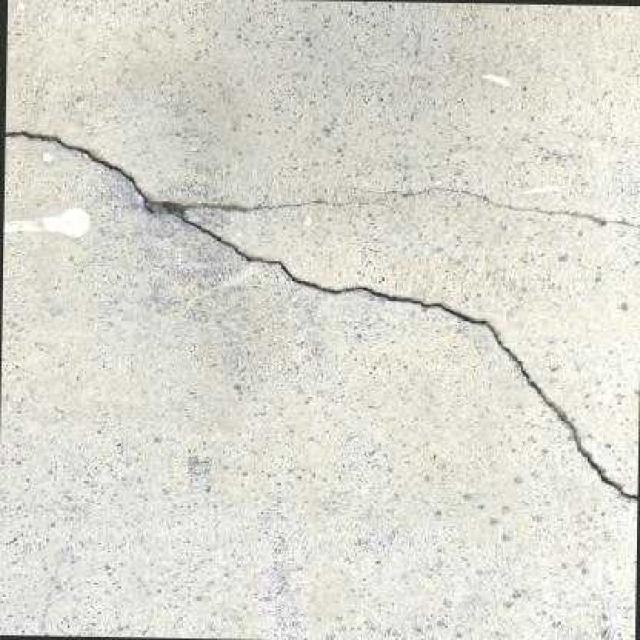D00: (5, 130, 637, 502), (351, 185, 640, 231)
